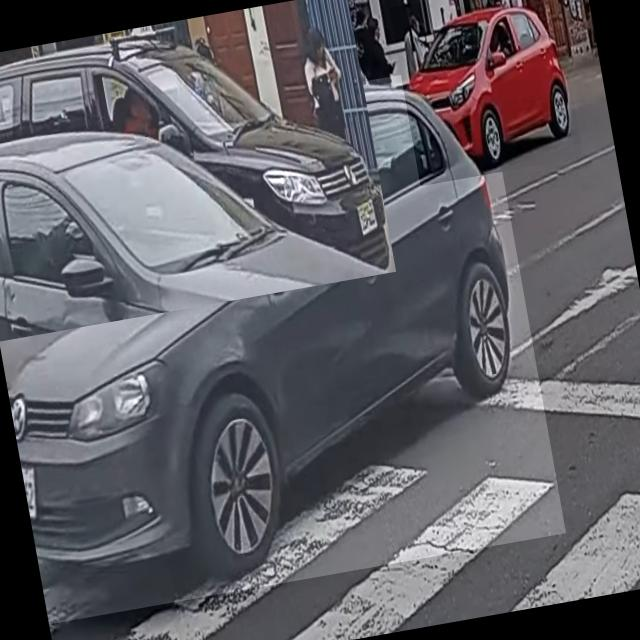car: (0, 60, 565, 624), (0, 0, 395, 341), (388, 0, 582, 185)
